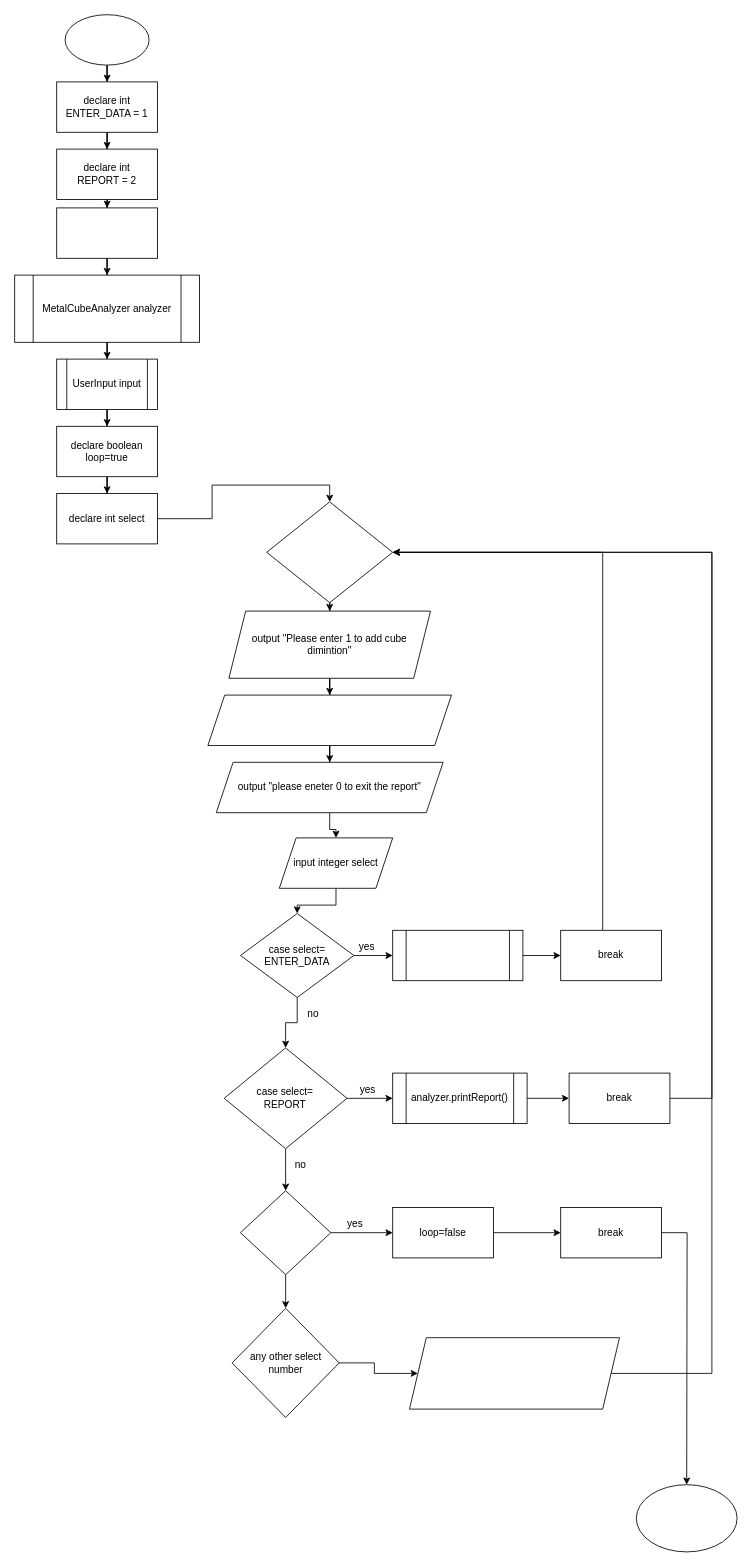
The diagram is 752 pixels wide and 1567 high, and some of its shapes have lost their labels. The shapes that lost their labels are listed below. From the top down, each one's box as (x1, y1, x2, y2) in pixels, then its label:
(64, 14, 149, 65): start
(56, 207, 158, 258): declare int EXIT = 0;
(266, 501, 393, 603): loop =true
(207, 694, 452, 746): output "please enter 2 for reprot of the cube"
(392, 929, 523, 981): analyzer.enterCube()
(240, 1190, 331, 1275): case select= EXIT
(409, 1337, 620, 1409): output you have selcted the wrong choice plese select the right choice
(635, 1484, 737, 1552): end
